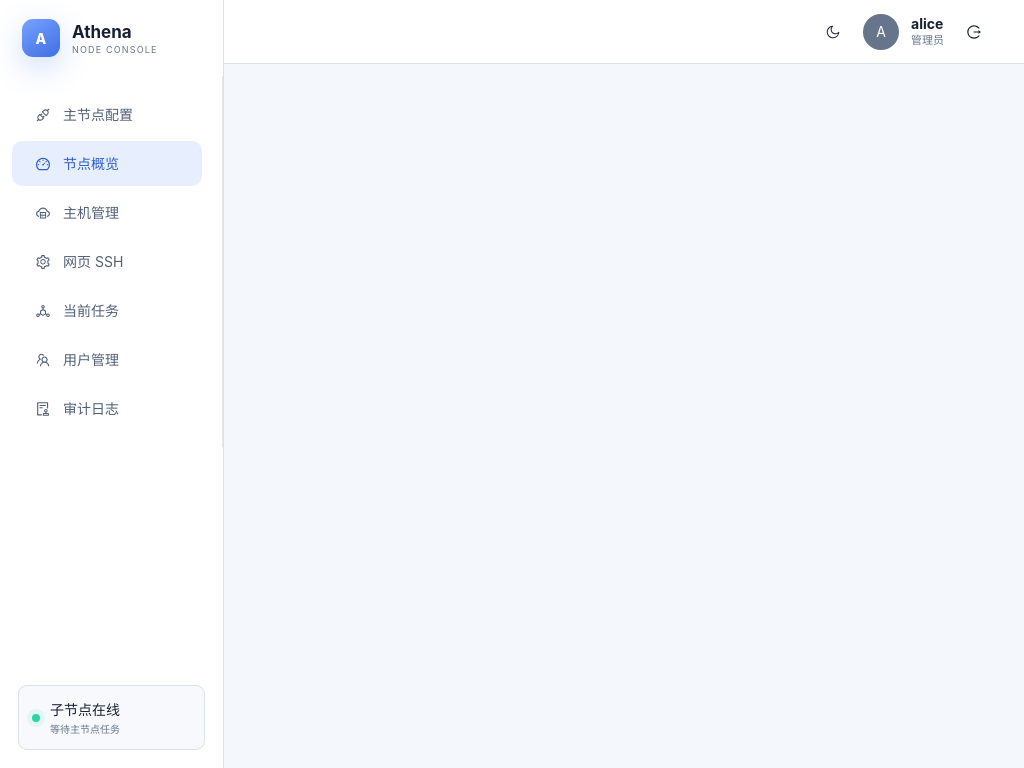
Scenario: renders aligned user identity, theme control, and current-task navigation
Expected: the text "alice" is shown, [911,16,944,32]
Expected: the text "管理员" is shown, [911,34,944,48]
Click the button named "切换到夜间模式".
click(833, 32)  # box [815,14,851,50]
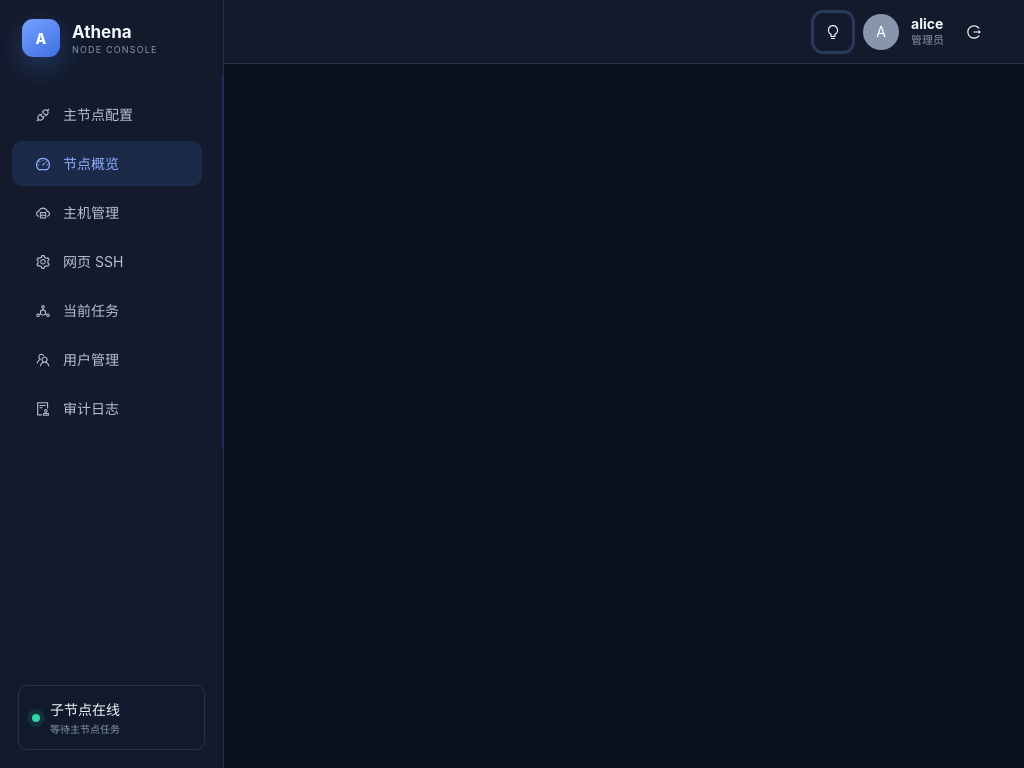
Expected: the button named "切换到日间模式" is shown, [815,14,851,50]
